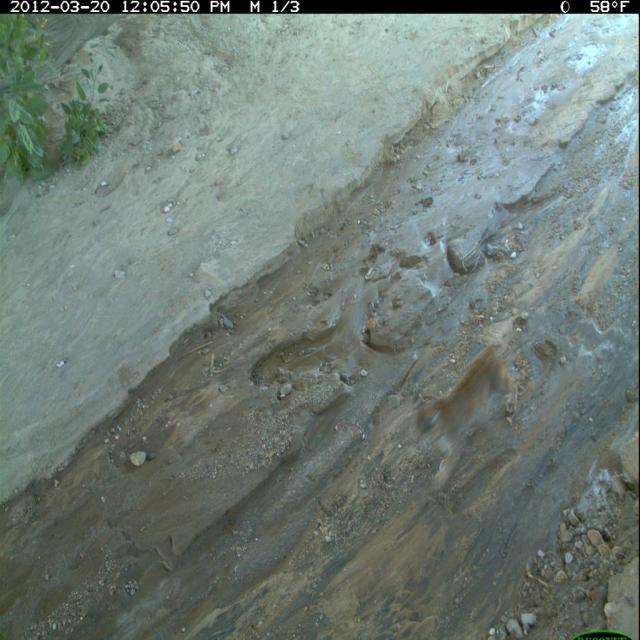bobcat: (411, 334, 523, 496)
